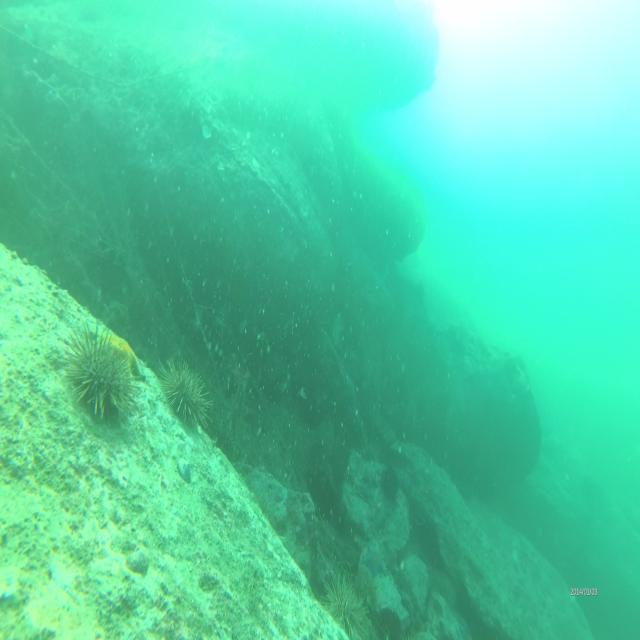echinus: (68, 316, 133, 420), (156, 344, 212, 434), (320, 569, 369, 640)
starfish: (100, 320, 144, 380)
